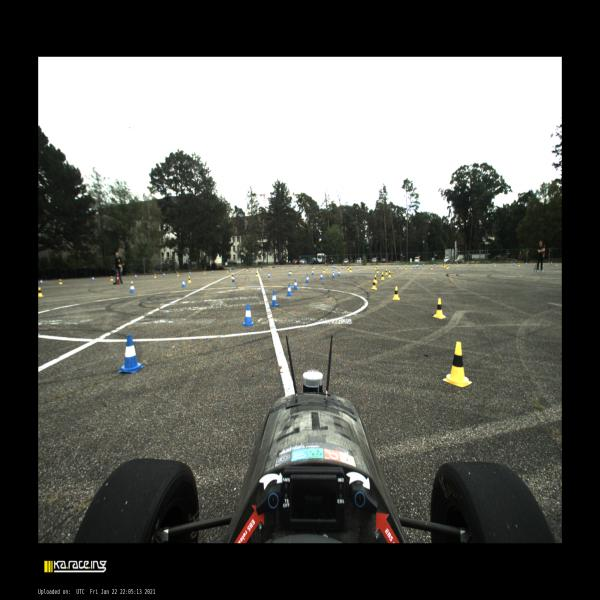blue_cone: (118, 334, 145, 374), (242, 304, 254, 326), (270, 290, 278, 306), (287, 284, 292, 296), (293, 280, 299, 290), (130, 284, 135, 292), (182, 279, 186, 287), (320, 272, 323, 280), (306, 275, 309, 282), (232, 275, 235, 282), (332, 272, 335, 278), (40, 279, 43, 285), (288, 270, 291, 276), (332, 269, 335, 275), (338, 270, 340, 276), (268, 272, 270, 278), (311, 270, 314, 274), (92, 276, 94, 281), (525, 262, 527, 266), (512, 262, 514, 266), (413, 264, 415, 268), (135, 274, 137, 278), (492, 262, 494, 266), (163, 273, 165, 276), (244, 268, 246, 271), (268, 267, 270, 270), (334, 265, 336, 268), (376, 265, 378, 268), (417, 264, 419, 267), (550, 262, 552, 264), (467, 262, 468, 266), (416, 264, 417, 268), (397, 264, 398, 268), (357, 265, 358, 269), (189, 272, 191, 274), (434, 263, 435, 266), (328, 265, 329, 268), (212, 270, 213, 273), (230, 269, 231, 272), (332, 265, 333, 268), (449, 263, 450, 266), (423, 264, 424, 266), (342, 266, 343, 268), (336, 266, 337, 268), (307, 266, 308, 268), (297, 266, 298, 268), (333, 266, 334, 268), (318, 265, 318, 268), (258, 268, 258, 270)
yellow_cone: (442, 342, 472, 387), (433, 298, 446, 319), (392, 286, 400, 300), (38, 287, 43, 297), (372, 278, 376, 290), (129, 281, 135, 289), (374, 275, 378, 283), (381, 272, 384, 280), (388, 270, 391, 278), (59, 278, 63, 284), (385, 268, 388, 275), (188, 276, 191, 283), (376, 268, 379, 273), (349, 267, 352, 272), (347, 266, 350, 270), (323, 267, 325, 273), (405, 265, 407, 270), (111, 276, 113, 281), (177, 272, 179, 277), (430, 265, 432, 269), (494, 262, 496, 266), (518, 262, 520, 266), (556, 262, 558, 266), (446, 265, 448, 269), (441, 263, 443, 267), (154, 274, 156, 278), (204, 270, 206, 274), (256, 272, 258, 276), (246, 268, 248, 272), (326, 266, 328, 270), (282, 266, 284, 270), (312, 266, 314, 270), (475, 263, 477, 266), (270, 267, 272, 270), (231, 273, 232, 278), (291, 269, 292, 274), (374, 265, 375, 269), (295, 266, 297, 268), (457, 263, 458, 266), (444, 264, 445, 267), (448, 265, 449, 268), (227, 270, 228, 272), (260, 268, 261, 270), (305, 266, 306, 268), (314, 266, 315, 268)
